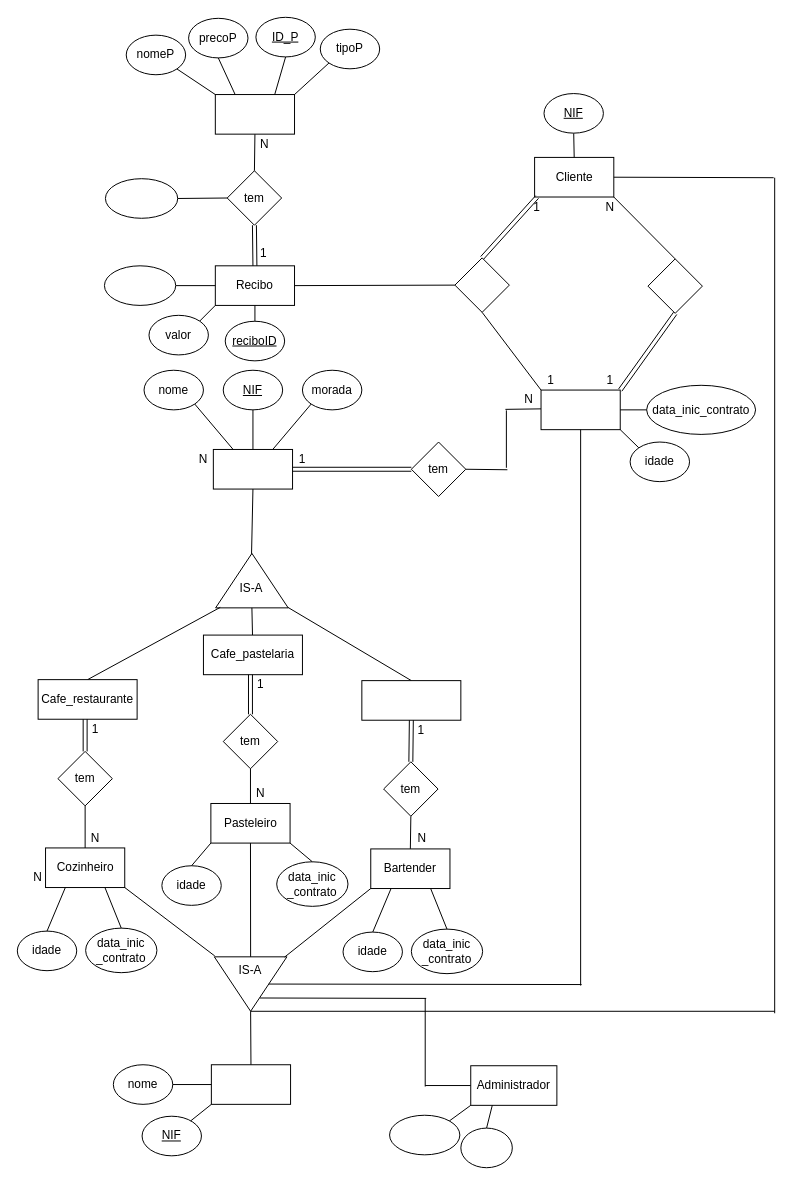
Some shapes in this 793 by 1185 pixel diagram are drawn without their labels. Here are the shapes that lost their labels. From the top down, the box of each, then its label:
(214, 94, 295, 134): Produto
(104, 178, 178, 218): quantidade
(103, 265, 176, 305): data_recibo
(454, 257, 509, 312): paga
(647, 258, 702, 313): serve
(540, 389, 620, 430): Empregado
(212, 448, 293, 489): Cafe
(361, 680, 461, 720): Cafe_bar
(210, 1064, 291, 1104): Pessoa
(389, 1114, 460, 1155): username
(460, 1127, 512, 1168): pwd
